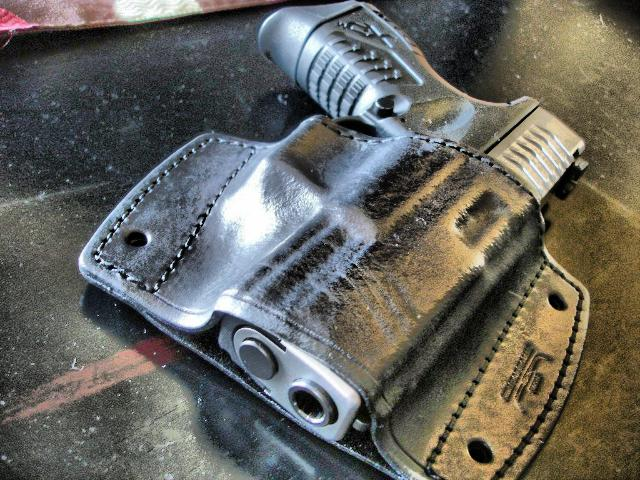pistol: (209, 1, 586, 439)
